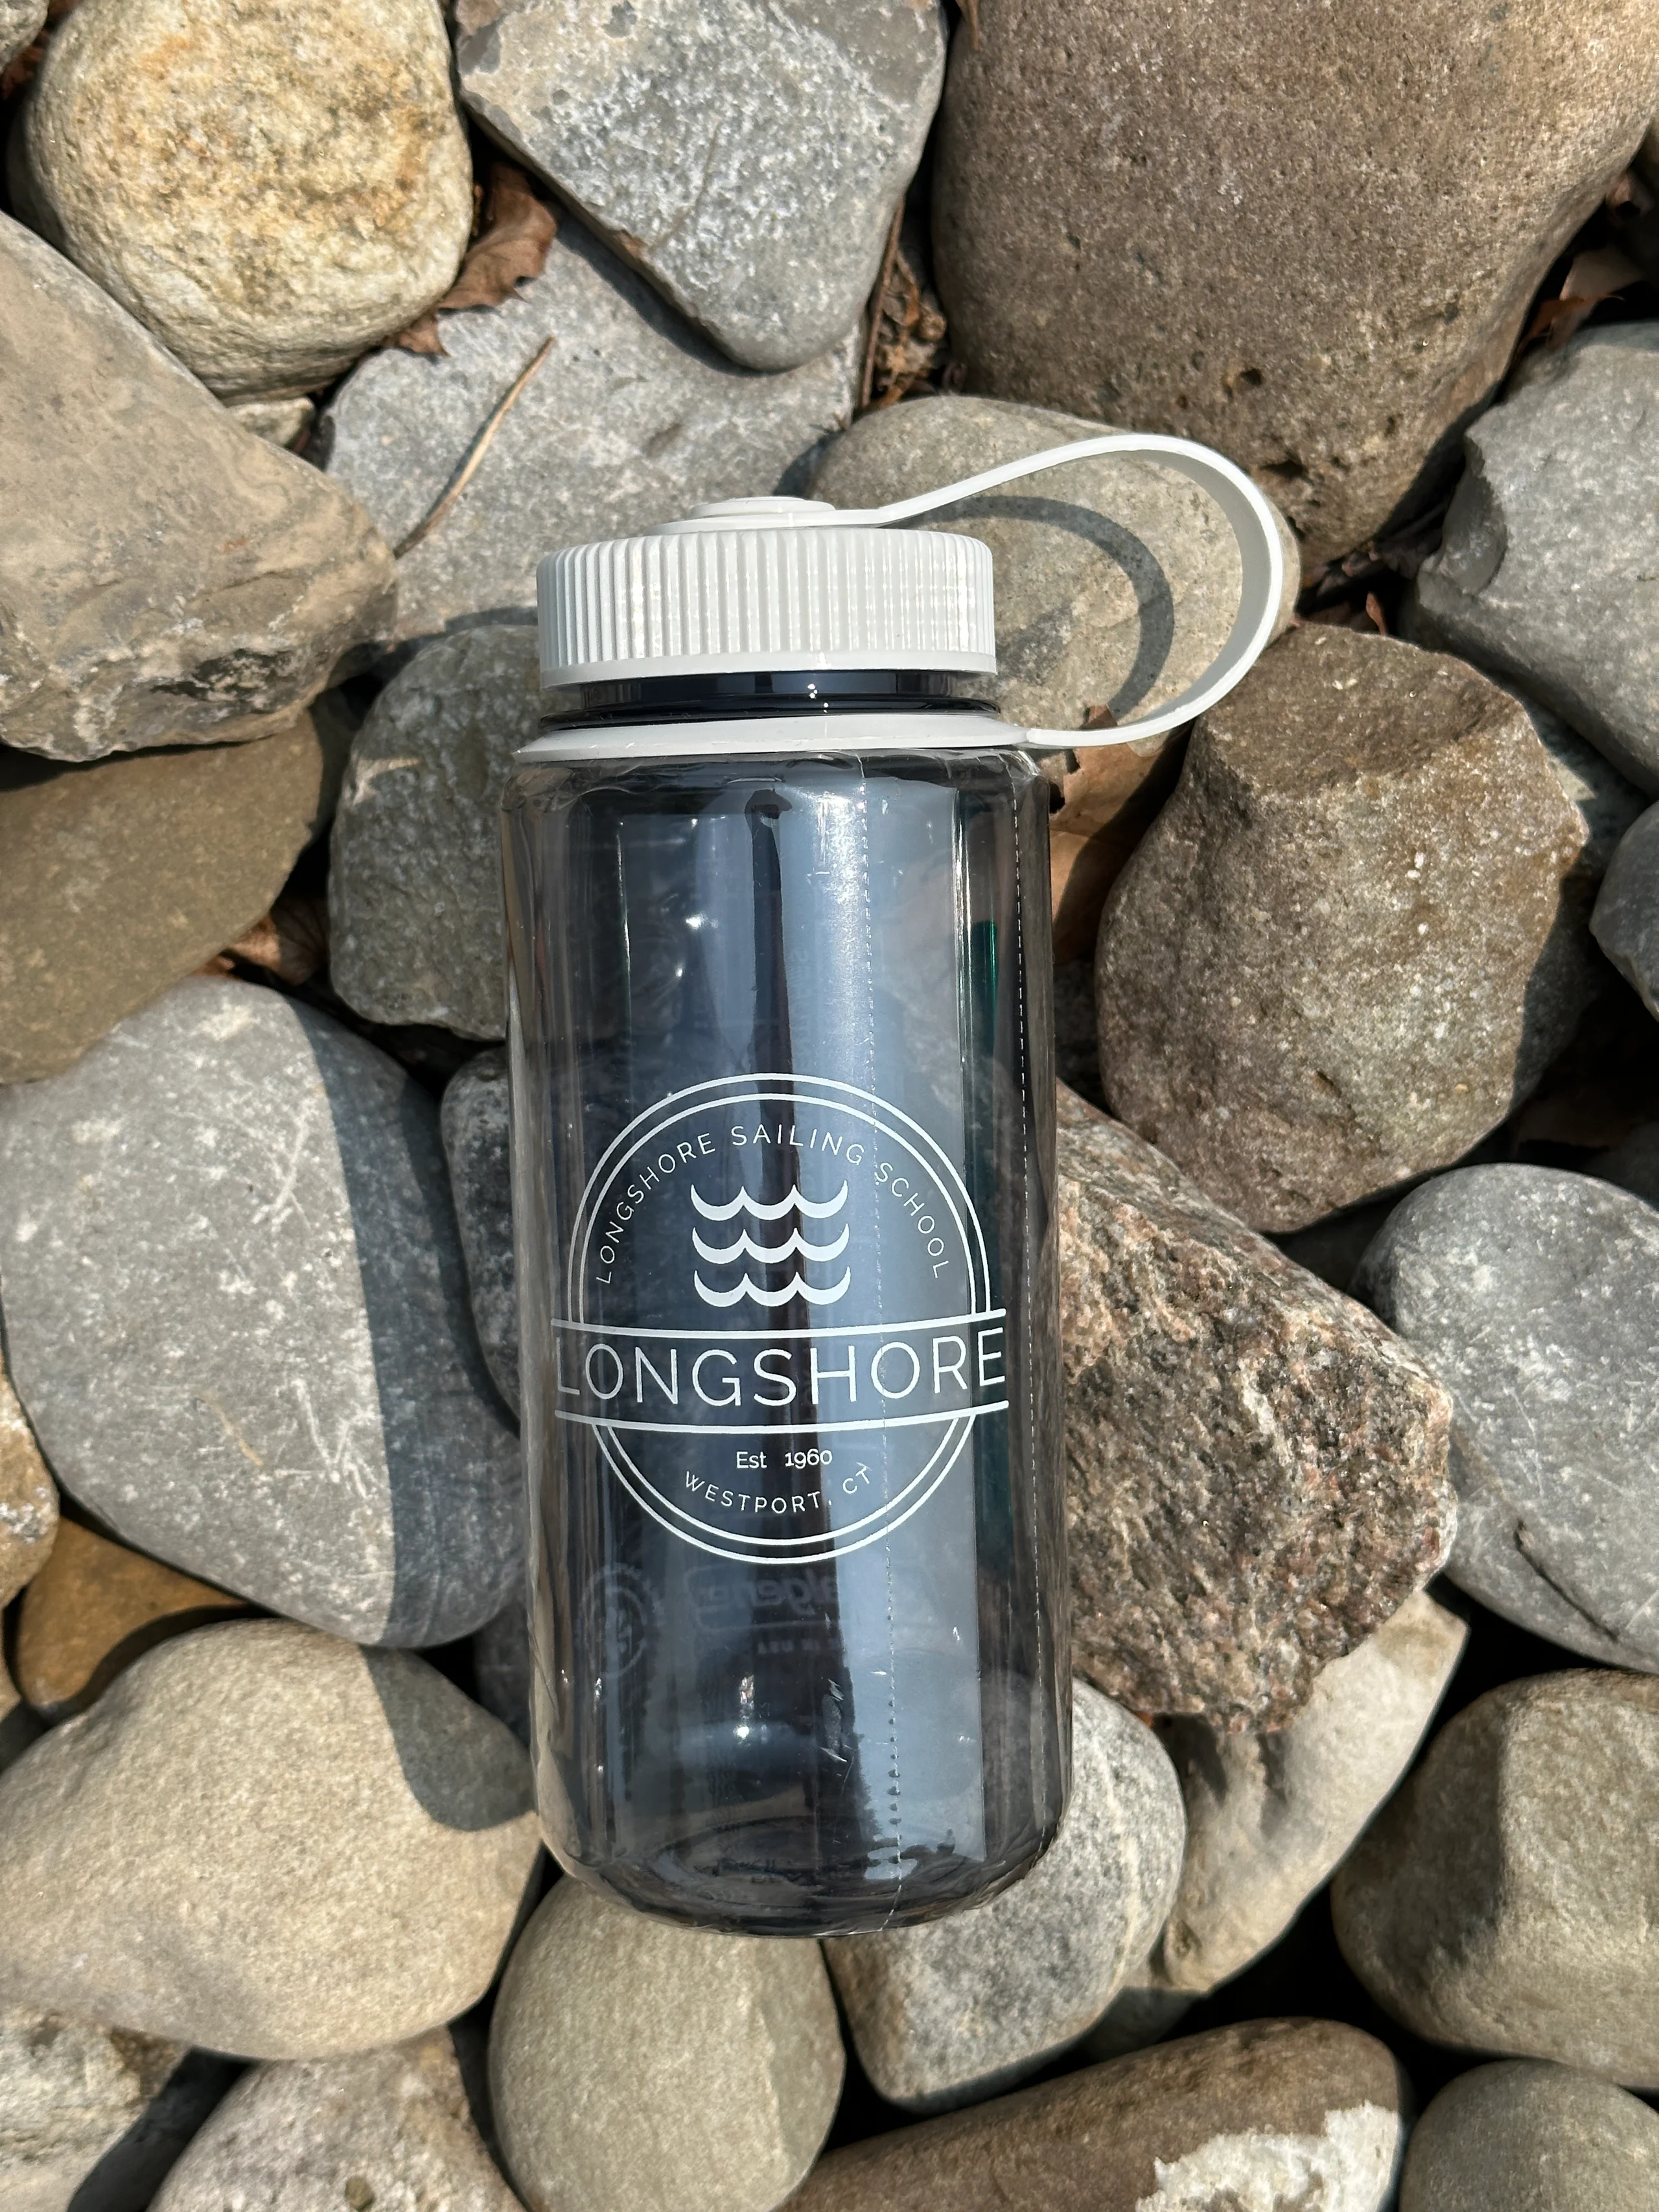waterbottle: (490, 422, 1290, 1944)
